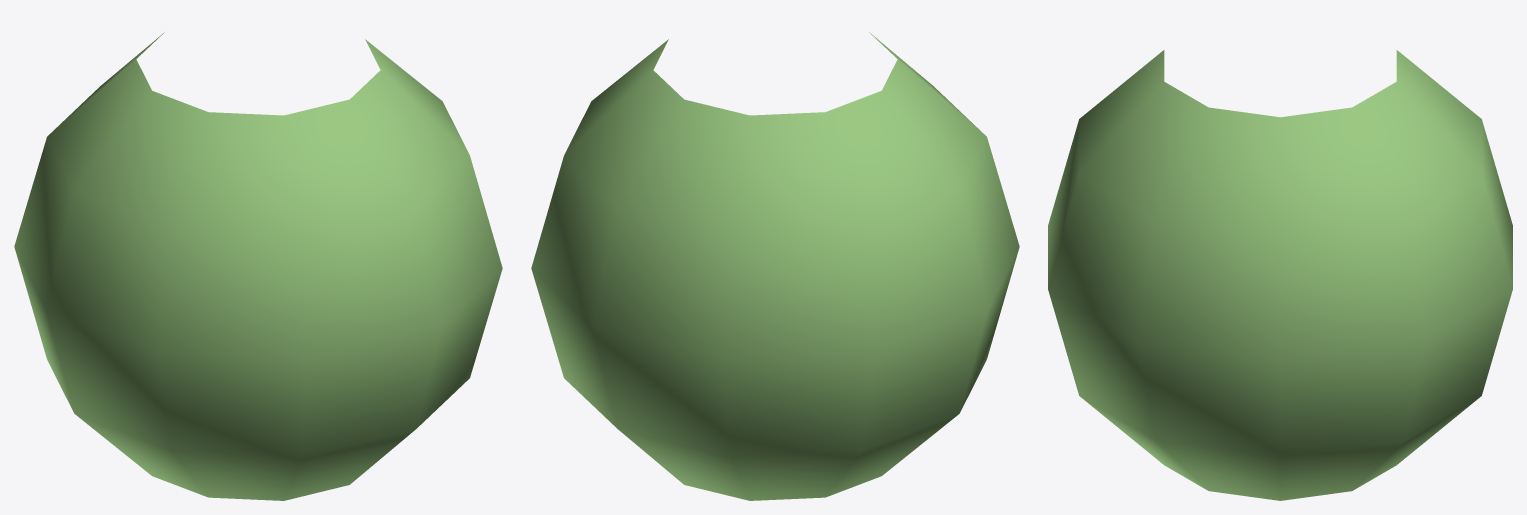
File: prim_sphere_green.glb
3 views of the same model, side by side, from view 1: azimuth 30°, elevation 25°; view 2: azimuth 150°, elevation 25°; view 3: azimuth 270°, elevation 25° (orthographic).
Parts seen in each view (by area): view 1: prim_sphere_green; view 2: prim_sphere_green; view 3: prim_sphere_green.
Part boxes in pixels (x1,y1,x2,y2): prim_sphere_green: (14, 32, 502, 500); prim_sphere_green: (531, 32, 1019, 500); prim_sphere_green: (1048, 50, 1512, 500).
Bounding box in the file's own units: 1 × 0.933 × 0.9511.
